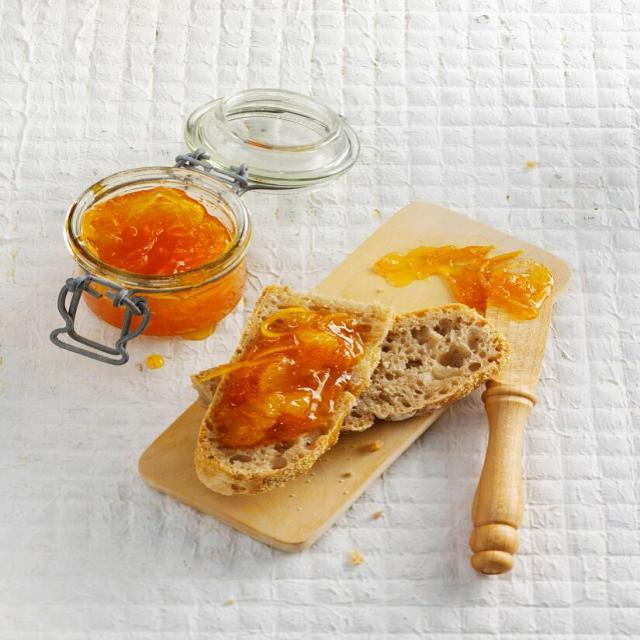Spread: (220, 311, 364, 453)
